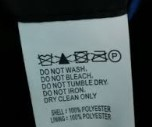ER_dry_clean_chemical: (108, 49, 123, 64)
ER_no_bleach: (54, 51, 73, 66)
ER_no_iron: (92, 48, 108, 63)
ER_no_tumble_dry: (72, 49, 90, 64)
ER_no_wash: (34, 53, 54, 67)
